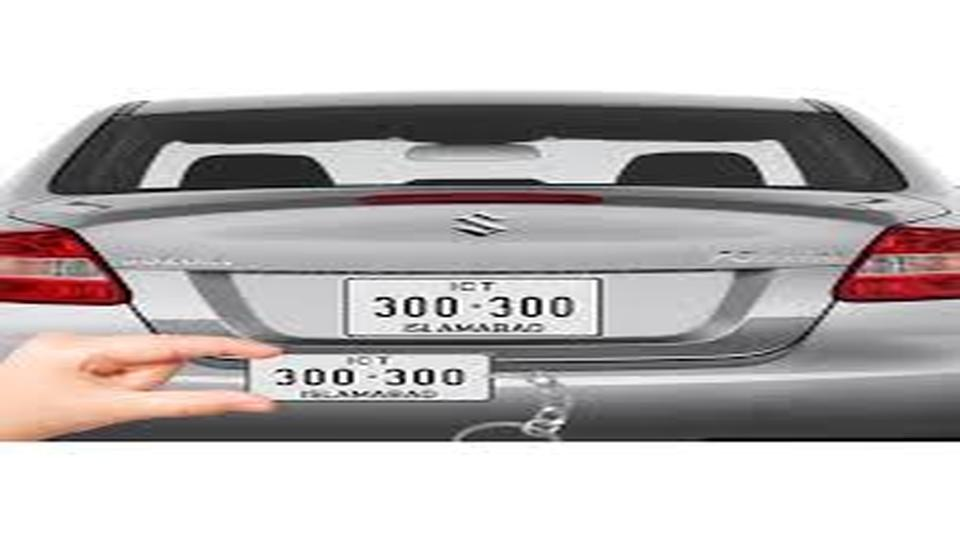NumberPlate: (334, 268, 618, 338), (239, 351, 499, 403)
